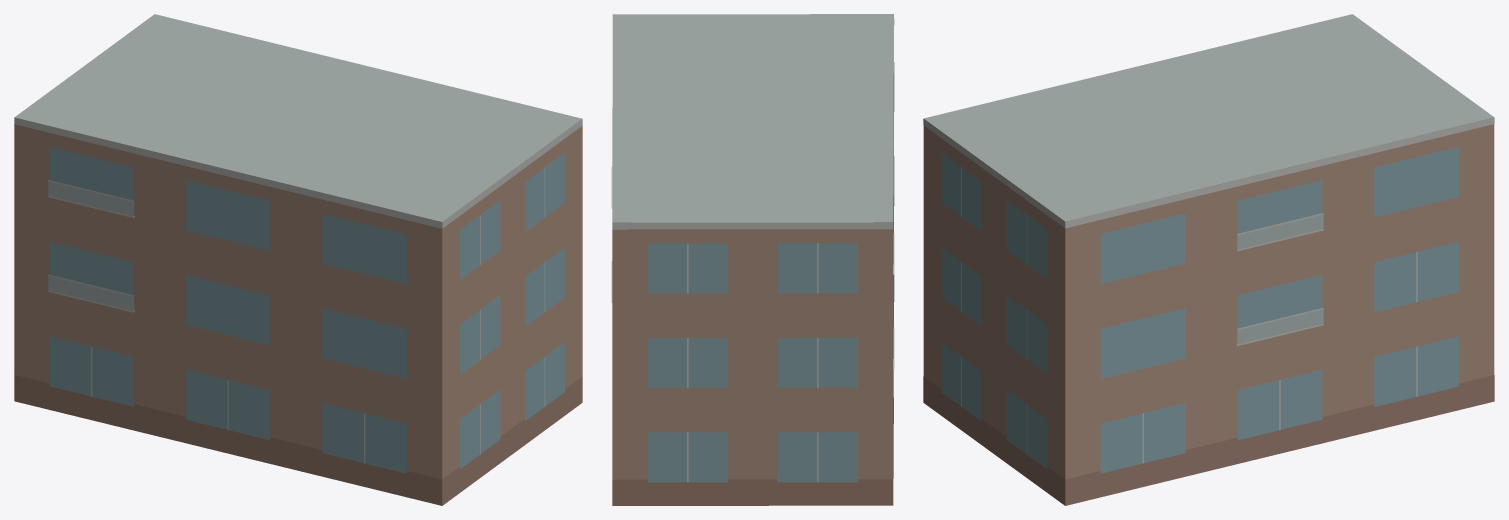
File: survey-upis-32722818.glb
3 views of the same model, side by side, from view 1: azimuth 30°, elevation 25°; view 2: azimuth 150°, elevation 25°; view 3: azimuth 270°, elevation 25° (orthographic).
Visible parts, largest first — view 1: survey-upis-32722818.tmp; view 2: survey-upis-32722818.tmp; view 3: survey-upis-32722818.tmp.
Part boxes in pixels (bbox=[...]): survey-upis-32722818.tmp: bbox=[14, 14, 582, 505]; survey-upis-32722818.tmp: bbox=[611, 14, 894, 505]; survey-upis-32722818.tmp: bbox=[923, 14, 1494, 505].
Bounding box in the file's own units: 15.98 × 10.2 × 18.57.
